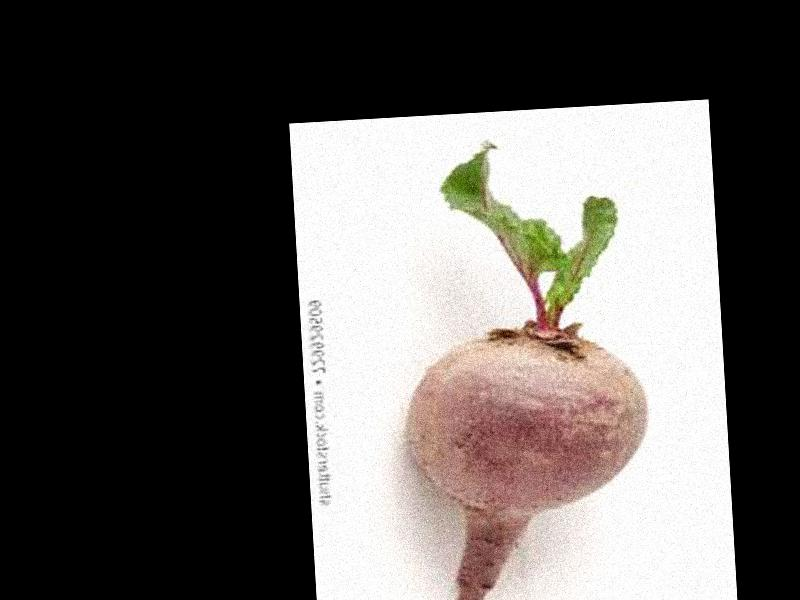Beet: (392, 132, 657, 600)
